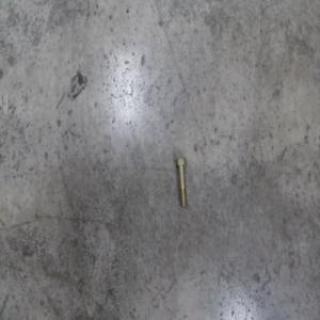Bolttrack_idkeyframe: (172, 155, 184, 207)
